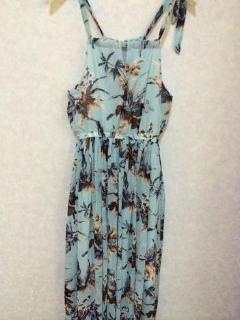sling: (64, 0, 187, 319)
